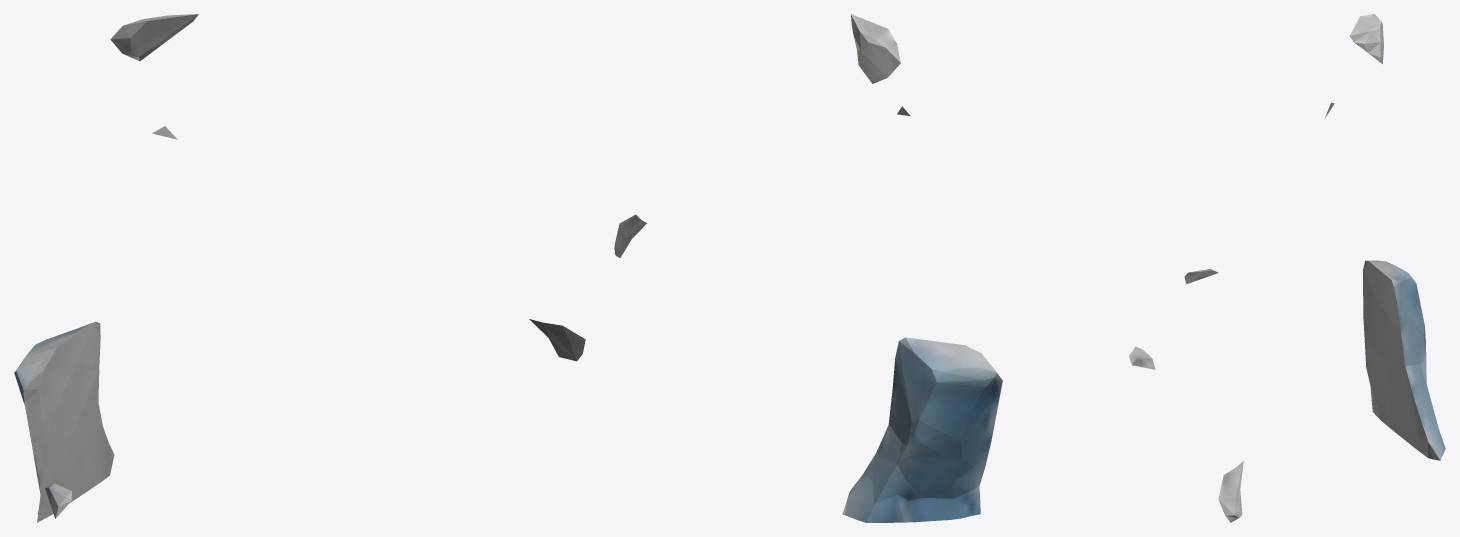
The picture shows the model from 3 angles, left to right: view 1: azimuth 30°, elevation 25°; view 2: azimuth 150°, elevation 25°; view 3: azimuth 270°, elevation 25°; orthographic projection. The views are drawn at different scales.
Bounding box in the file's own units: 0.6498 × 0.5452 × 0.2915.
Materials: 1 (1 with a texture image).
